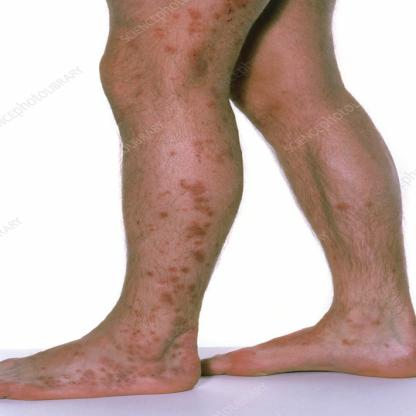Bed Bug: (99, 278, 202, 390), (152, 0, 243, 62), (152, 177, 225, 218), (140, 241, 217, 276), (11, 368, 96, 392), (188, 138, 239, 172), (199, 81, 231, 130), (261, 86, 292, 116), (333, 196, 375, 216), (176, 221, 225, 238), (336, 314, 391, 326), (232, 349, 264, 367), (132, 220, 160, 235), (62, 344, 90, 358), (156, 71, 185, 84), (385, 259, 401, 282), (122, 40, 144, 55), (336, 334, 354, 352), (288, 336, 315, 348), (378, 338, 395, 354), (327, 245, 341, 264), (161, 147, 181, 158), (404, 313, 416, 330)
